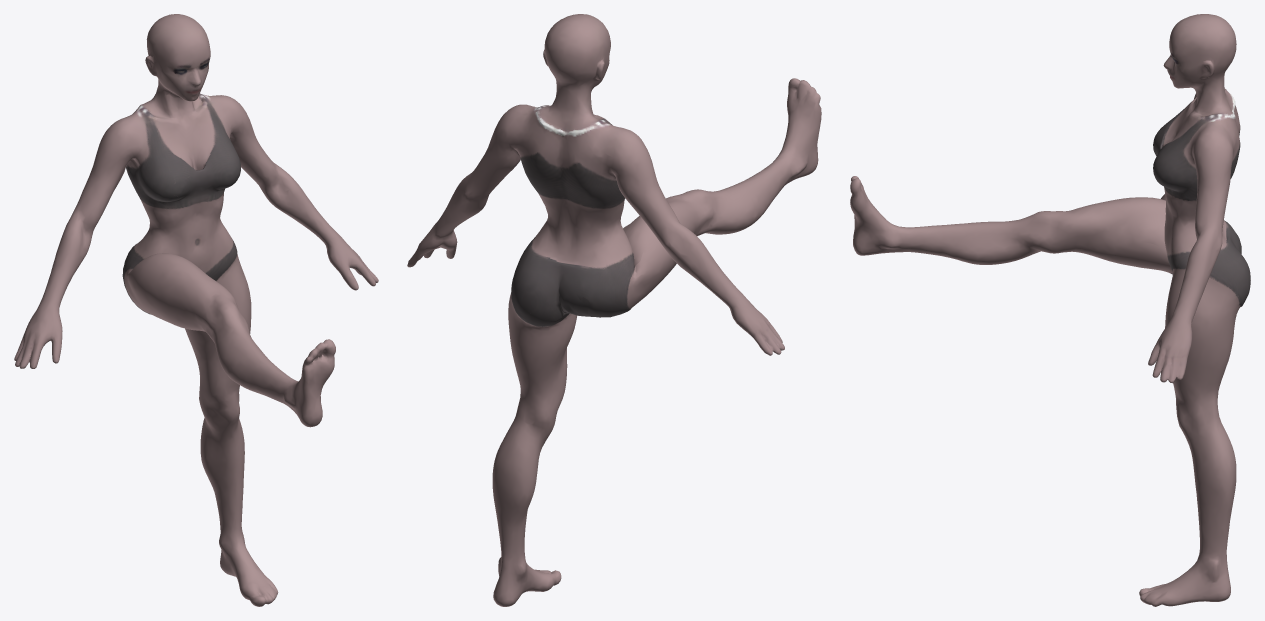
File: raw-ThighL-90.glb
The picture shows the model from 3 angles, left to right: view 1: azimuth 30°, elevation 25°; view 2: azimuth 150°, elevation 25°; view 3: azimuth 270°, elevation 25°; orthographic projection. The views are drawn at different scales.
Parts seen in each view (by area): view 1: raw-ThighL-90; view 2: raw-ThighL-90; view 3: raw-ThighL-90.
Boxes of the visible parts, x1,y1,x2,y2 form: raw-ThighL-90: [14, 14, 378, 606]; raw-ThighL-90: [407, 14, 821, 606]; raw-ThighL-90: [850, 14, 1250, 606].
Bounding box in the file's own units: 0.6508 × 1 × 0.6521.
1 material, 1 textured.
